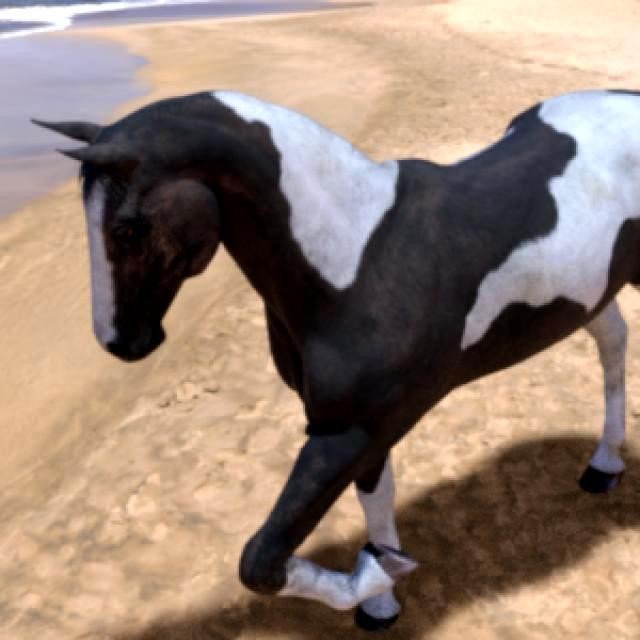horse: (39, 91, 640, 629)
